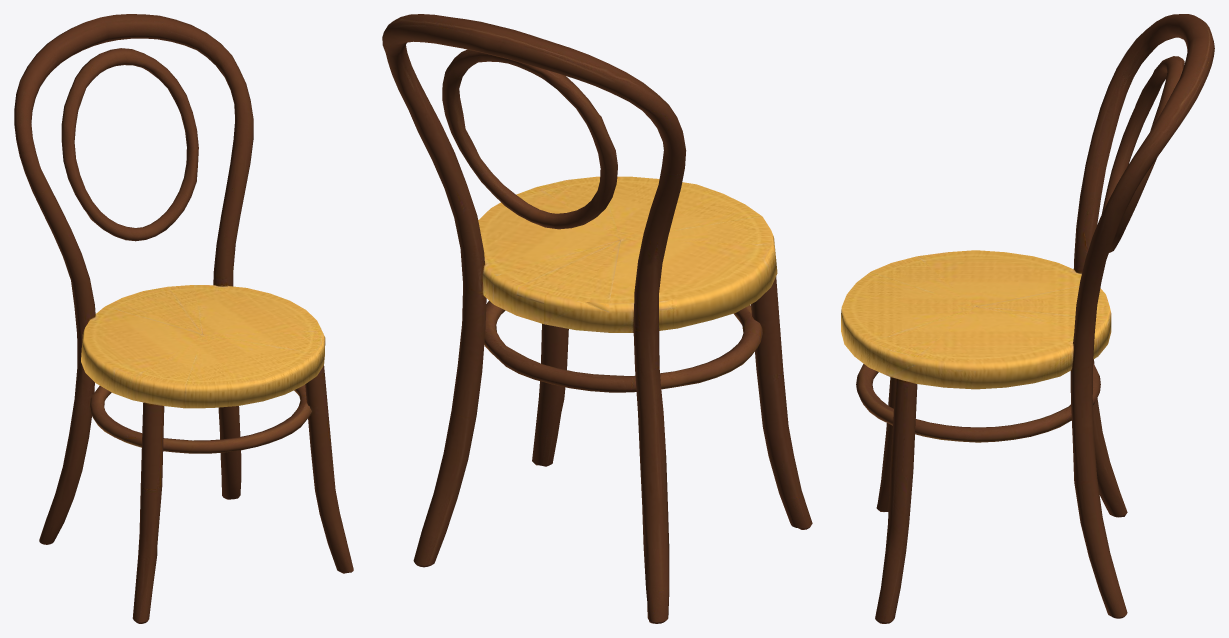
The model's file is bentwood-chair.glb.
3 views of the same model, side by side, from view 1: azimuth 30°, elevation 25°; view 2: azimuth 150°, elevation 25°; view 3: azimuth 270°, elevation 25° (orthographic). The views are drawn at different scales.
Size of the model in its own units: 0.48 by 0.9517 by 0.6084.
1 material, 1 textured.
